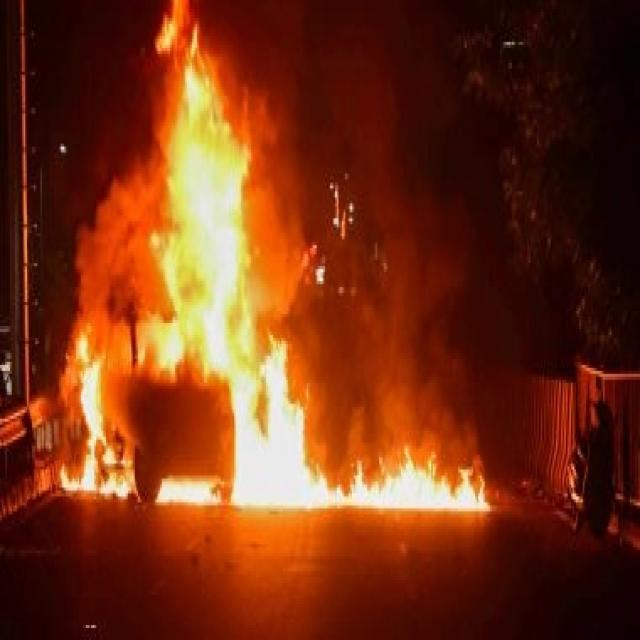fire: (231, 341, 488, 510), (151, 0, 259, 377), (61, 332, 135, 497), (154, 477, 217, 501)
